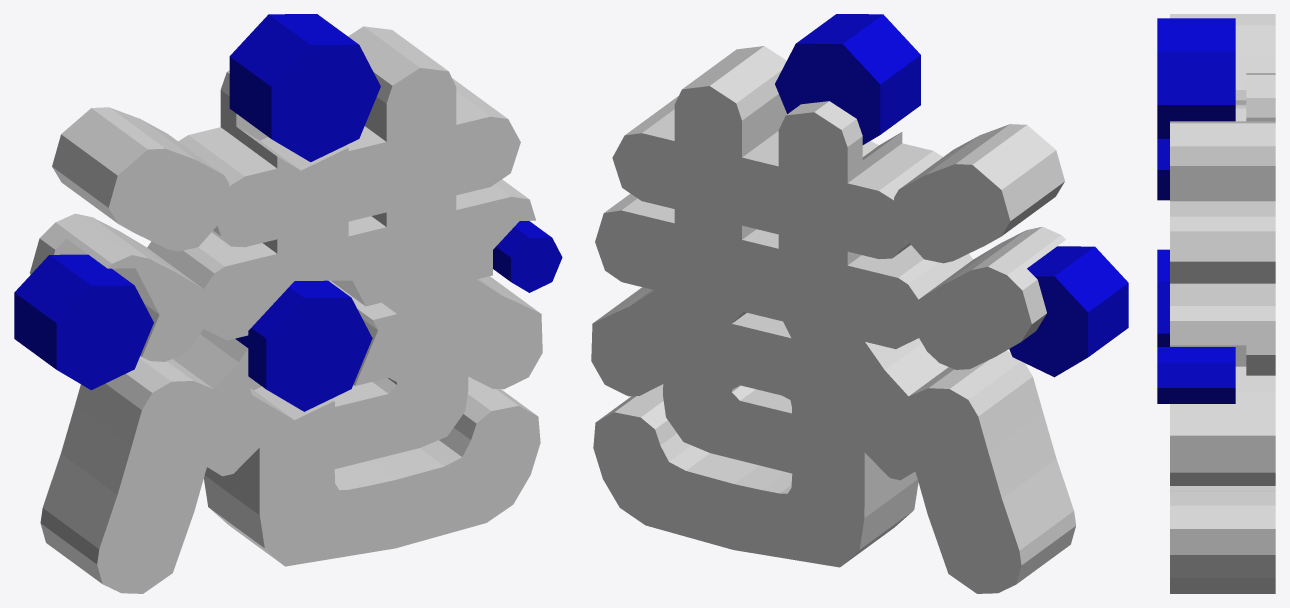
File: Ch_Lite_China_港_01.fbx
3 views of the same model, side by side, from view 1: azimuth 30°, elevation 25°; view 2: azimuth 150°, elevation 25°; view 3: azimuth 270°, elevation 25° (orthographic). The views are drawn at different scales.
Visible parts, largest first — view 1: sphere1; view 2: sphere1; view 3: sphere1.
Boxes of the visible parts, x1,y1,x2,y2 form: sphere1: (14,14,562,593); sphere1: (591,14,1128,593); sphere1: (1157,14,1275,593).
Size of the model in its own units: 1.03 by 1.03 by 0.2242.
